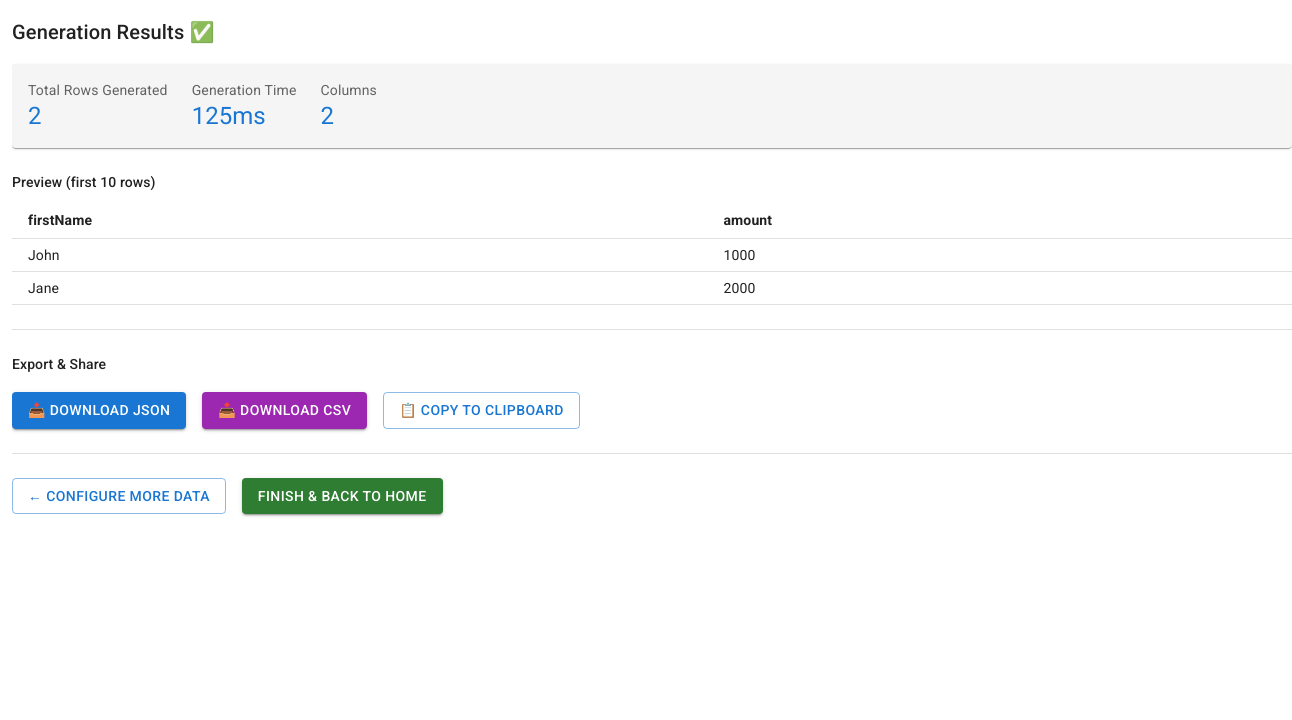
Test: ResultViewer › shows success after copy
This screenshot has width=1292, height=720.
Click the button "📋 Copy to Clipboard": (481, 410) left=383, top=392, right=580, bottom=428
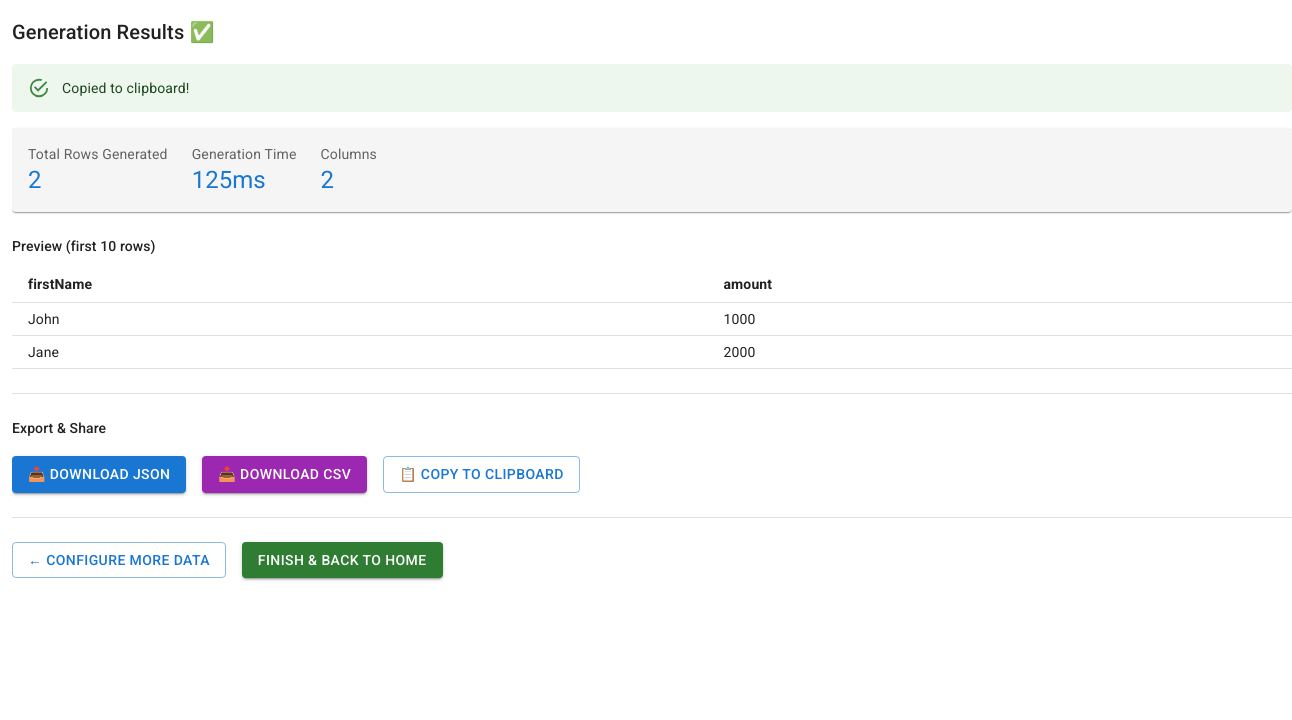
expect the text "Copied to clipboard!" is shown: met, box left=62, top=80, right=190, bottom=96
